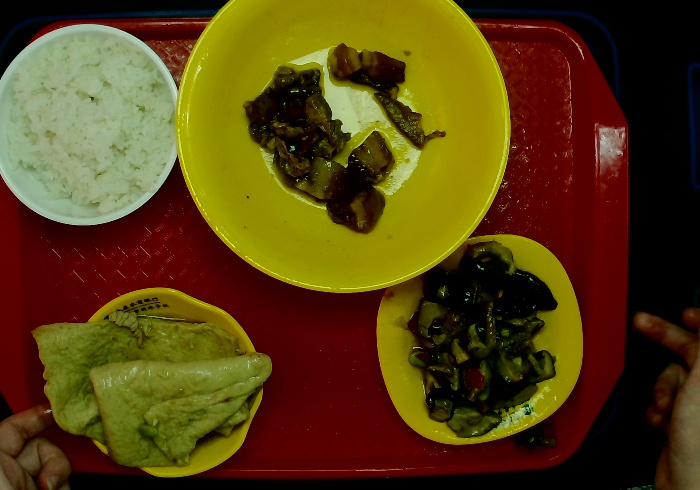YKMZ-Fan_Wan: (1, 18, 183, 237)
YKMZ-Huang_Se_Ao_Bian_Wan: (60, 285, 271, 482)
YKMZ-Huang_Se_Fang_Die: (370, 226, 590, 450)
YKMZ-Huang_Se_Tang_Wan: (172, 1, 518, 302)
